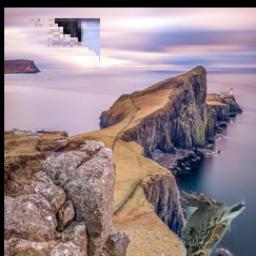Crow: (22, 18, 101, 243)
Sparrow: (180, 196, 247, 256)
